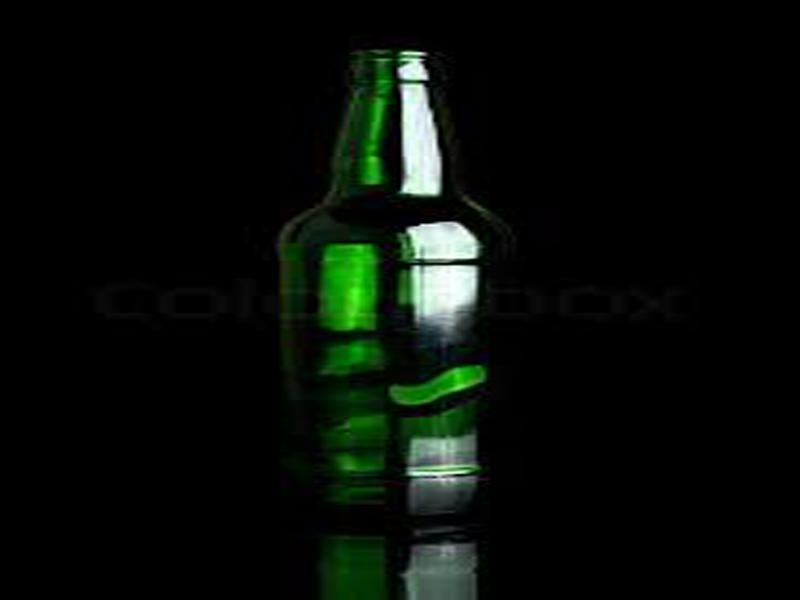Beer: (275, 50, 481, 478)
